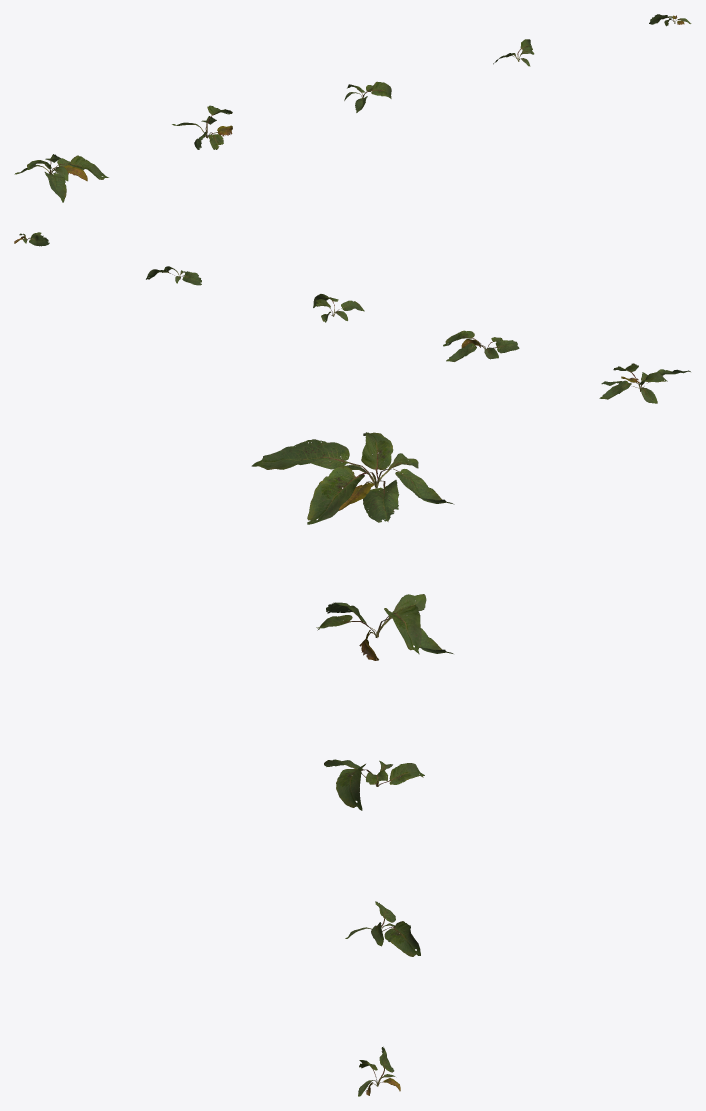
Rendered from weeds.jpg-TAdtQ40p.glb.
The picture shows the model from 3 angles, top to bottom: view 1: azimuth 30°, elevation 25°; view 2: azimuth 150°, elevation 25°; view 3: azimuth 270°, elevation 25°; orthographic projection. The views are drawn at different scales.
Parts seen in each view (by area): view 1: weed_plant_02_a_LOD0, weed_plant_02_b_LOD0, weed_plant_02_c_LOD0; view 2: weed_plant_02_a_LOD0, weed_plant_02_b_LOD0, weed_plant_02_c_LOD0, weed_plant_02_d_LOD0, weed_plant_02_e_LOD0; view 3: weed_plant_02_a_LOD0, weed_plant_02_b_LOD0, weed_plant_02_c_LOD0, weed_plant_02_d_LOD0.
Part boxes in pixels (x1=…): weed_plant_02_a_LOD0: x1=14, y1=154, x2=108, y2=202; weed_plant_02_b_LOD0: x1=172, y1=105, x2=232, y2=149; weed_plant_02_c_LOD0: x1=344, y1=81, x2=391, y2=112; weed_plant_02_a_LOD0: x1=599, y1=363, x2=690, y2=403; weed_plant_02_b_LOD0: x1=443, y1=330, x2=519, y2=361; weed_plant_02_c_LOD0: x1=313, y1=294, x2=364, y2=322; weed_plant_02_d_LOD0: x1=146, y1=266, x2=201, y2=285; weed_plant_02_e_LOD0: x1=14, y1=232, x2=49, y2=246; weed_plant_02_a_LOD0: x1=251, y1=432, x2=454, y2=524; weed_plant_02_b_LOD0: x1=316, y1=594, x2=453, y2=660; weed_plant_02_c_LOD0: x1=324, y1=759, x2=424, y2=810; weed_plant_02_d_LOD0: x1=345, y1=901, x2=420, y2=956.
Bounding box in the file's own units: 2.13 × 0.0747 × 0.2909.
1 material, 1 textured.
